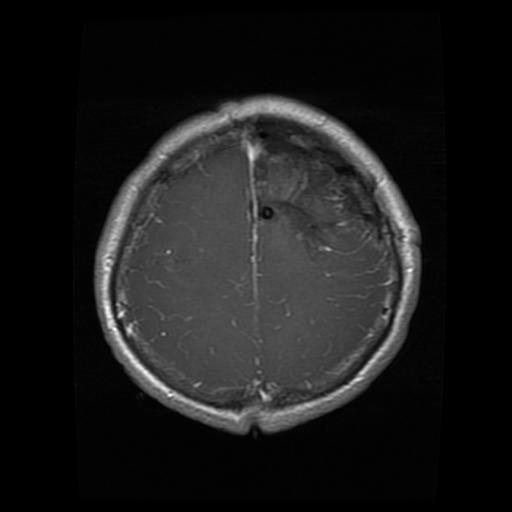Gliomia_tumour: (252, 116, 379, 250)
